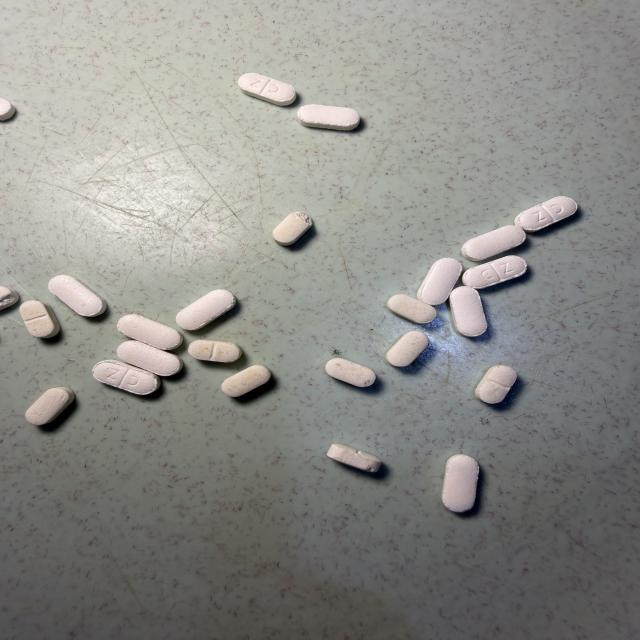pill: (176, 290, 236, 330), (49, 275, 106, 317), (93, 360, 160, 395), (118, 340, 182, 376), (118, 315, 182, 350), (515, 196, 577, 232), (442, 454, 479, 512), (462, 226, 525, 260), (418, 258, 462, 305), (463, 256, 527, 288), (25, 387, 74, 425), (238, 73, 296, 105), (450, 287, 487, 336), (221, 365, 271, 397), (298, 105, 360, 130), (327, 444, 382, 472), (475, 366, 516, 403), (386, 331, 428, 366), (20, 301, 59, 338), (387, 294, 436, 323), (326, 358, 375, 387), (273, 212, 313, 245), (188, 340, 242, 362), (0, 286, 19, 309), (0, 98, 15, 120)
